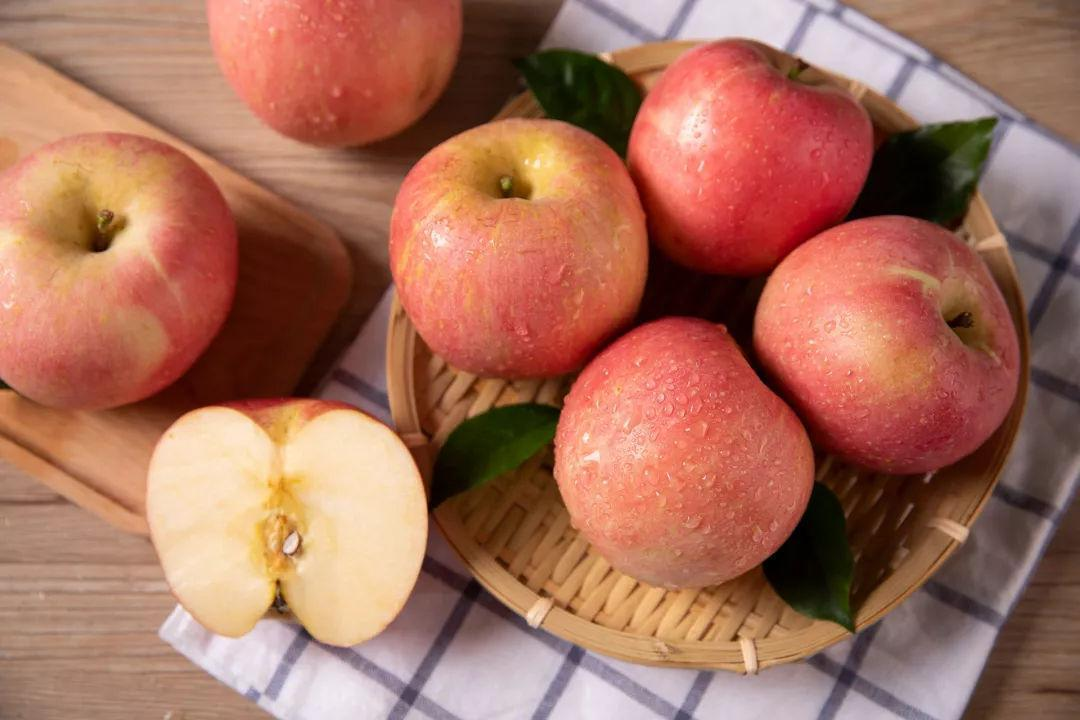apple: (549, 307, 815, 597), (745, 203, 1019, 474), (376, 117, 647, 379), (1, 130, 235, 407), (625, 37, 871, 278), (207, 1, 453, 148)
